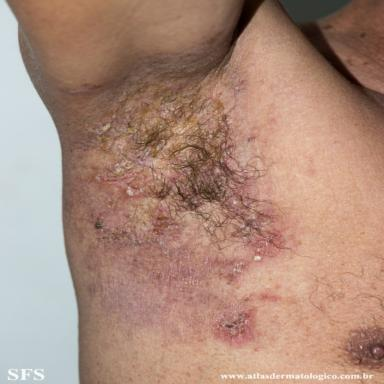Hailey-Hailey-Disease: (21, 31, 288, 347)
